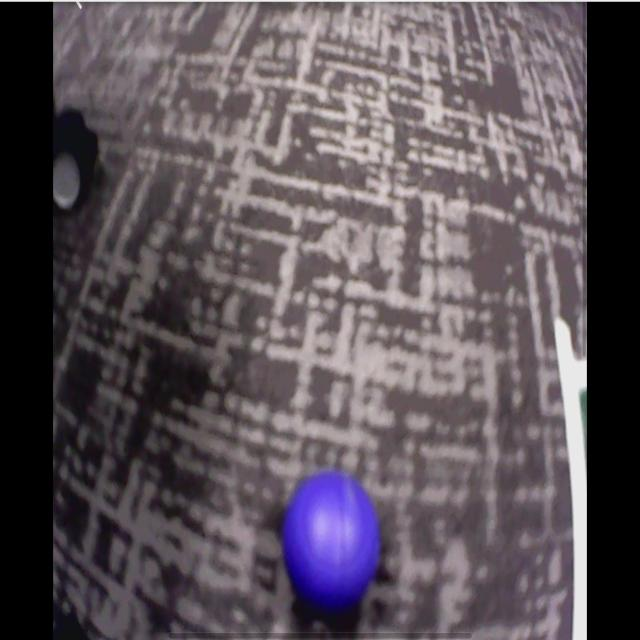ball: (284, 471, 378, 606)
